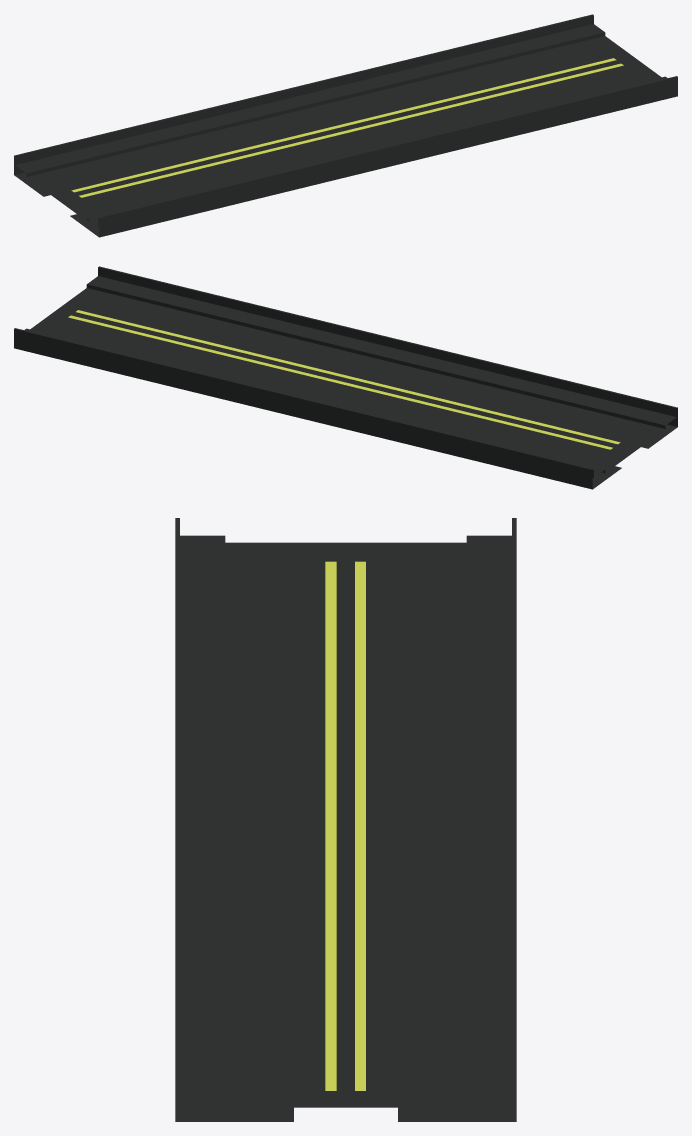
Rendered from Bridge 2.fbx.
3 views of the same model, one above another, from view 1: azimuth 30°, elevation 25°; view 2: azimuth 150°, elevation 25°; view 3: azimuth 270°, elevation 25° (orthographic). The views are drawn at different scales.
Visible parts, largest first — view 1: Plane, Plane.001; view 2: Plane, Plane.001; view 3: Plane, Plane.001.
Boxes of the visible parts, box(x1,y1,x2,y2) form: Plane: box(14, 14, 677, 237); Plane.001: box(71, 58, 623, 197); Plane: box(14, 266, 677, 489); Plane.001: box(68, 310, 620, 449); Plane: box(175, 518, 516, 1121); Plane.001: box(325, 561, 365, 1090).
Bounding box in the file's own units: 4124 × 133 × 1052.
